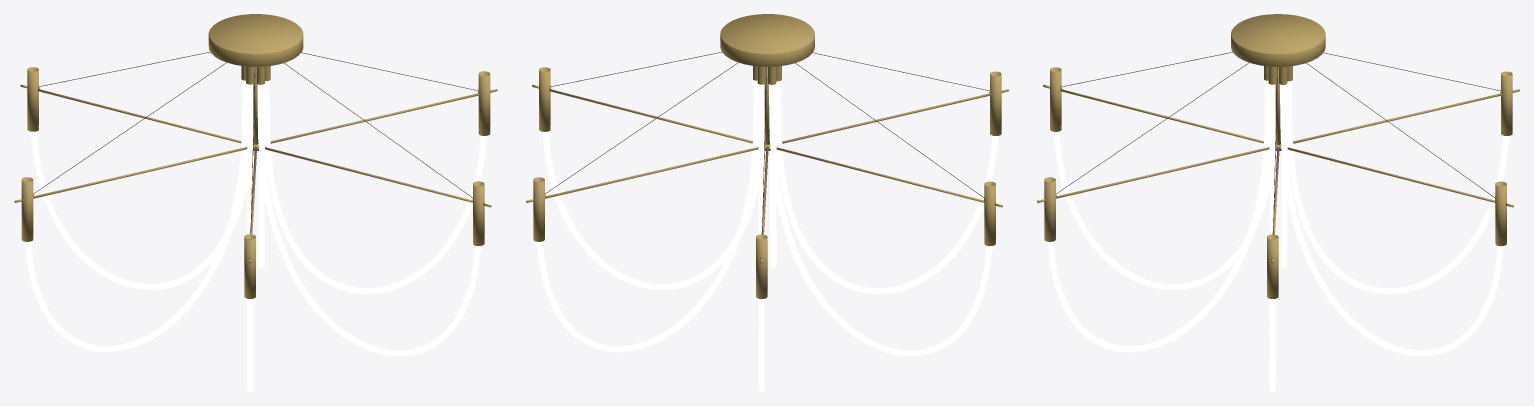
File: candy.glb
3 renders of one model, left to right at view 1: azimuth 30°, elevation 25°; view 2: azimuth 150°, elevation 25°; view 3: azimuth 270°, elevation 25°, orthographic.
Parts seen in each view (by area): view 1: Assemblage PARADOXE 6 FIXE.003, Assemblage PARADOXE 6 FIXE.001, Cylinder.018, Assemblage PARADOXE 6 FIXE.002; view 2: Assemblage PARADOXE 6 FIXE.003, Assemblage PARADOXE 6 FIXE.001, Cylinder.018, Assemblage PARADOXE 6 FIXE.002; view 3: Assemblage PARADOXE 6 FIXE.003, Assemblage PARADOXE 6 FIXE.001, Cylinder.018, Assemblage PARADOXE 6 FIXE.002.
Part boxes in pixels (x1=…): Assemblage PARADOXE 6 FIXE.003: x1=25, y1=80, x2=486, y2=391; Assemblage PARADOXE 6 FIXE.001: x1=14, y1=67, x2=497, y2=298; Cylinder.018: x1=208, y1=14, x2=303, y2=66; Assemblage PARADOXE 6 FIXE.002: x1=33, y1=52, x2=478, y2=233; Assemblage PARADOXE 6 FIXE.003: x1=536, y1=80, x2=998, y2=391; Assemblage PARADOXE 6 FIXE.001: x1=526, y1=67, x2=1008, y2=298; Cylinder.018: x1=720, y1=14, x2=814, y2=66; Assemblage PARADOXE 6 FIXE.002: x1=545, y1=52, x2=989, y2=234; Assemblage PARADOXE 6 FIXE.003: x1=1047, y1=80, x2=1509, y2=391; Assemblage PARADOXE 6 FIXE.001: x1=1037, y1=67, x2=1519, y2=298; Cylinder.018: x1=1231, y1=14, x2=1325, y2=66; Assemblage PARADOXE 6 FIXE.002: x1=1056, y1=52, x2=1500, y2=234.
Bounding box in the file's own units: 1.17 × 0.673 × 1.03.
